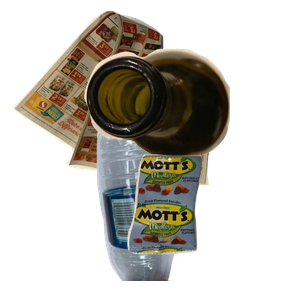glass: (82, 46, 300, 199)
paper: (10, 10, 217, 189)
plastic: (94, 120, 267, 300)
trash: (125, 152, 300, 300)
